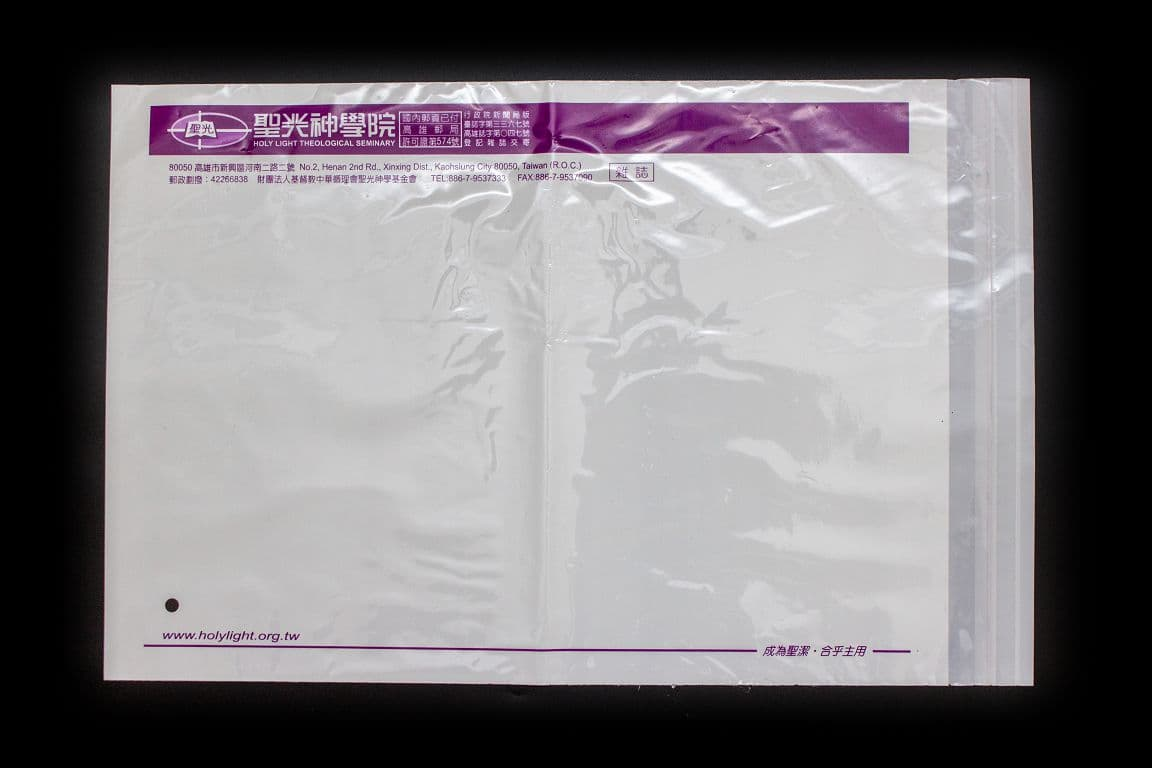塑料袋: (105, 81, 1033, 685)
